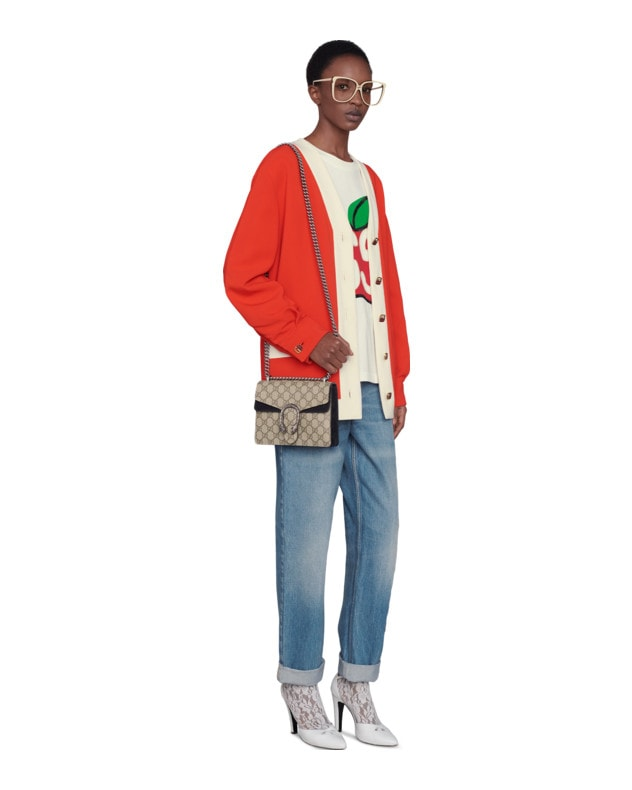Gucci: (246, 376, 347, 453), (273, 401, 314, 438)
